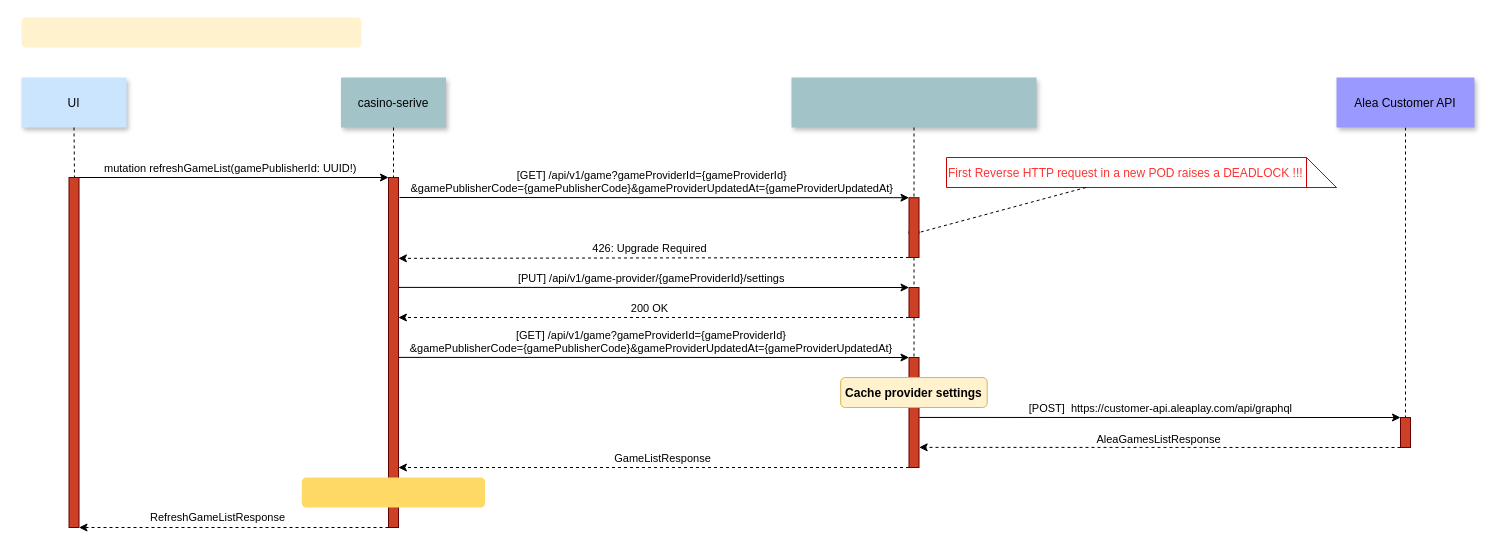
Image size: 1497x553. Some labels were removed from this diagram. Here are the shapes that lost their labels. From the top down, the centre of each, then its label:
At point (191, 32): "Refresh Game List".
At point (914, 103): "game-provider-integration-service-alea".
At point (393, 492): "Save/Update provider's games".
